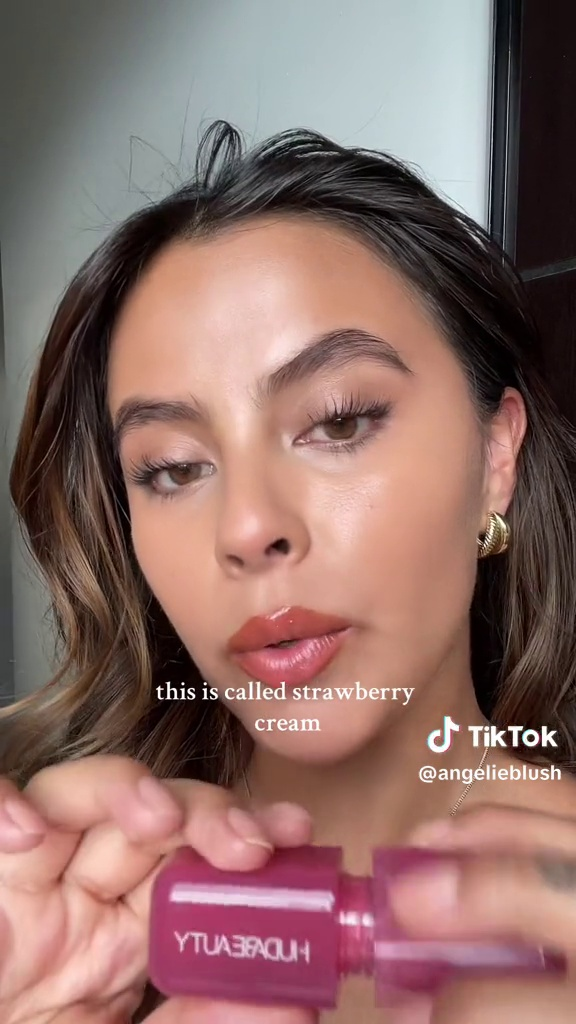train' :'yolo_data/train/images',: (137, 823, 565, 1018)
